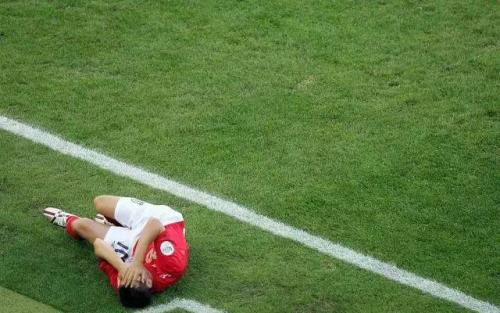fall: (38, 186, 196, 303)
